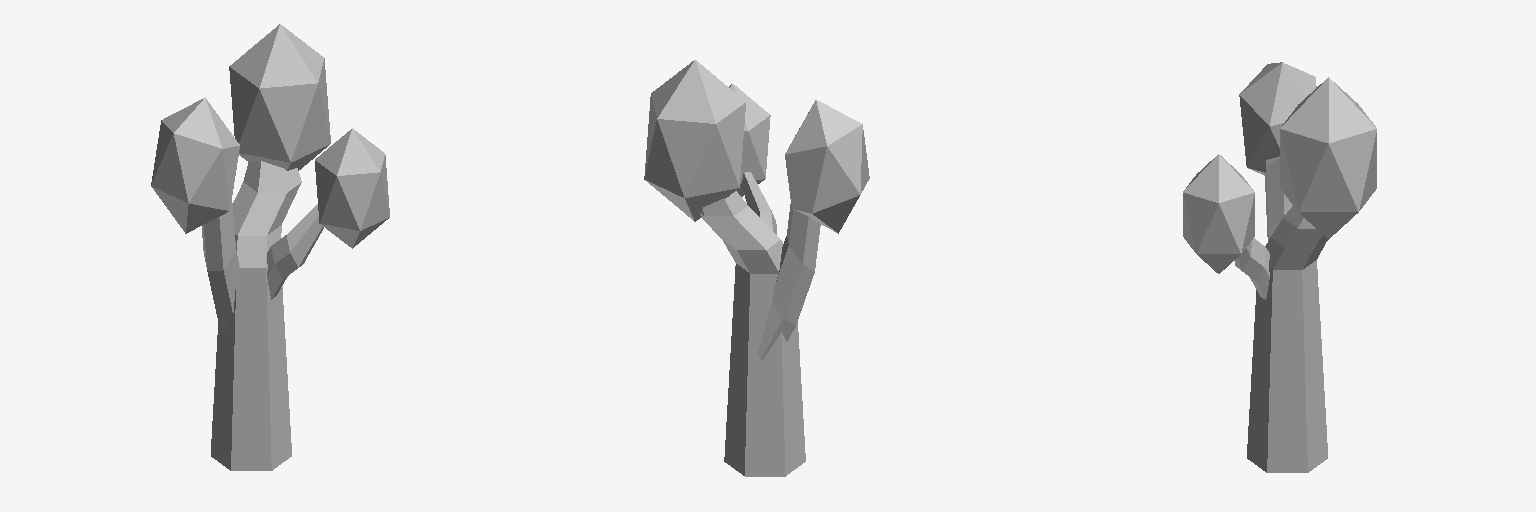
File: tree3.obj
3 renders of one model, left to right at view 1: azimuth 30°, elevation 25°; view 2: azimuth 150°, elevation 25°; view 3: azimuth 270°, elevation 25°, orthographic.
Visible parts, largest first — view 1: Cylinder; view 2: Cylinder; view 3: Cylinder.
Part boxes in pixels (bbox=[...]): Cylinder: bbox=[151, 24, 389, 470]; Cylinder: bbox=[644, 60, 869, 476]; Cylinder: bbox=[1183, 62, 1376, 472].
Size of the model in its own units: 3.76 by 7.37 by 3.21.